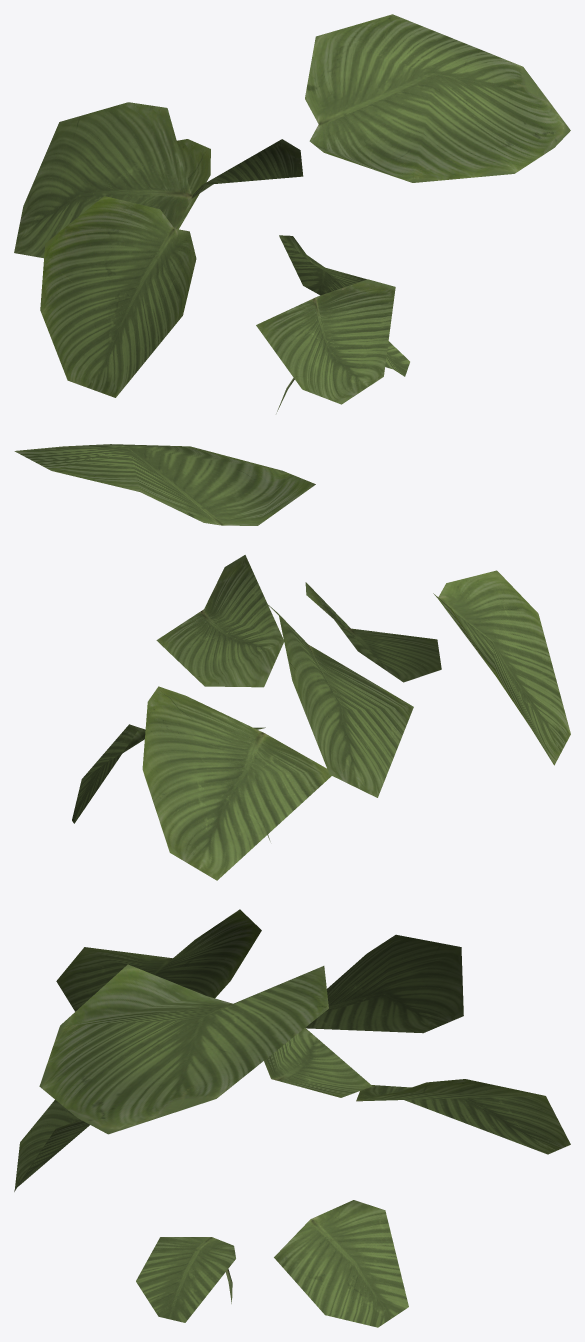
Rendered from Vine c LOD2.fbx.
3 views of the same model, one above another, from view 1: azimuth 30°, elevation 25°; view 2: azimuth 150°, elevation 25°; view 3: azimuth 270°, elevation 25° (orthographic). The views are drawn at different scales.
Parts seen in each view (by area): view 1: calathea_orbifolia_01_a.002; view 2: calathea_orbifolia_01_a.002; view 3: calathea_orbifolia_01_a.002.
Part boxes in pixels (x1=…): calathea_orbifolia_01_a.002: x1=14, y1=14, x2=570, y2=413; calathea_orbifolia_01_a.002: x1=14, y1=444, x2=570, y2=880; calathea_orbifolia_01_a.002: x1=14, y1=909, x2=570, y2=1327.
Bounding box in the file's own units: 58.4 × 38.78 × 50.61.
